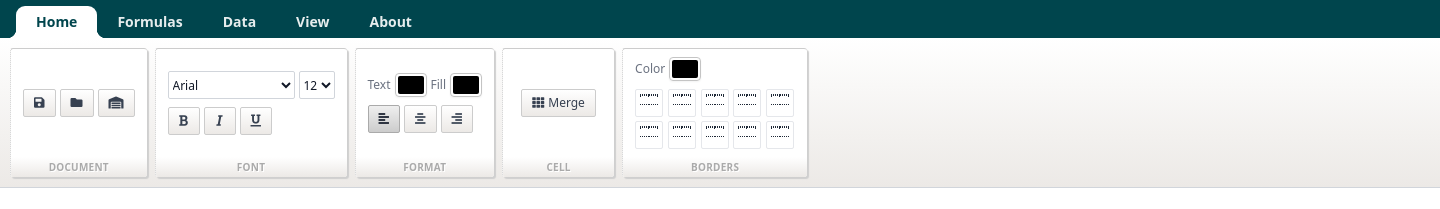
Scenario: RibbonMenu › switches tabs and renders the migrated tab content
Press the mouse on the tab "Formulas": (150, 22) [97,6,203,38]
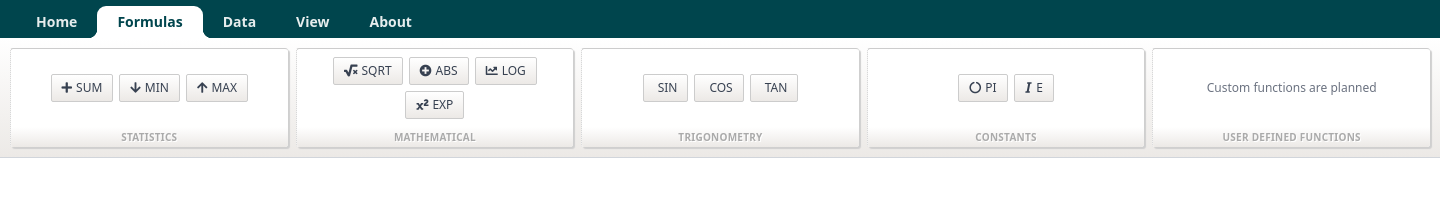
Expected: the text "Mathematical" is shown, [297,127,573,147]
Expected: the text "User Defined Functions" is shown, [1153,127,1430,147]
Expected: the button titled "Insert SUM" is shown, [51,74,113,102]
Press the mouse on the tab "Data": (240, 22) [203,6,276,38]
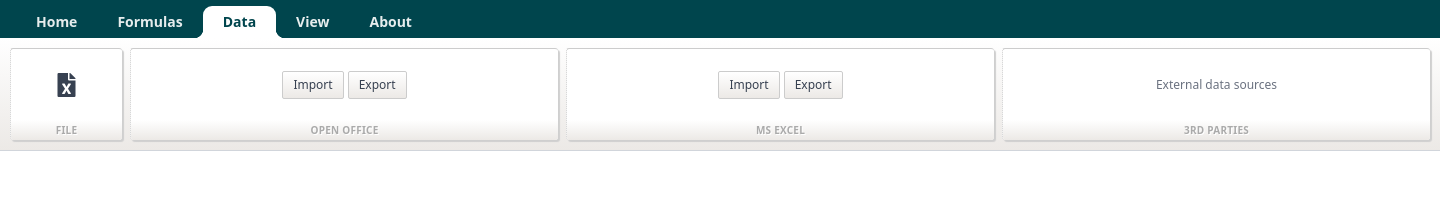
Expected: the text "Open Office" is shown, [131,120,558,140]
Expected: the text "MS Excel" is shown, [567,120,994,140]
Press the mouse on the tab "View": (313, 22) [276,6,350,38]
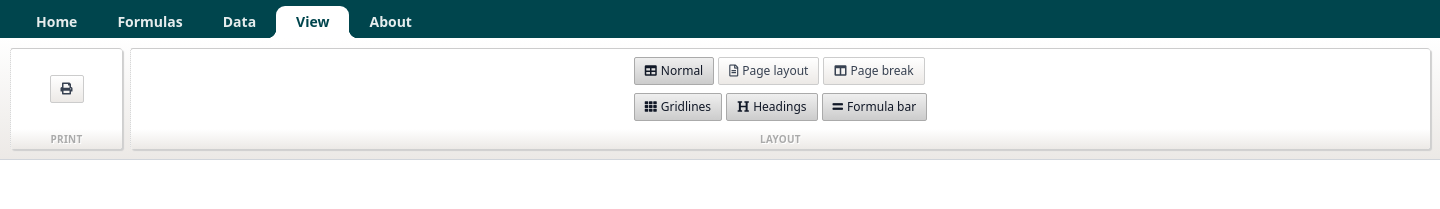
Expected: the text "Print" is shown, [11,129,122,149]
Expected: the text "Layout" is shown, [131,129,1430,149]
Expected: the button "Normal" is shown, [634,57,714,85]
Press the mouse on the tab "About": (391, 22) [350,6,432,38]
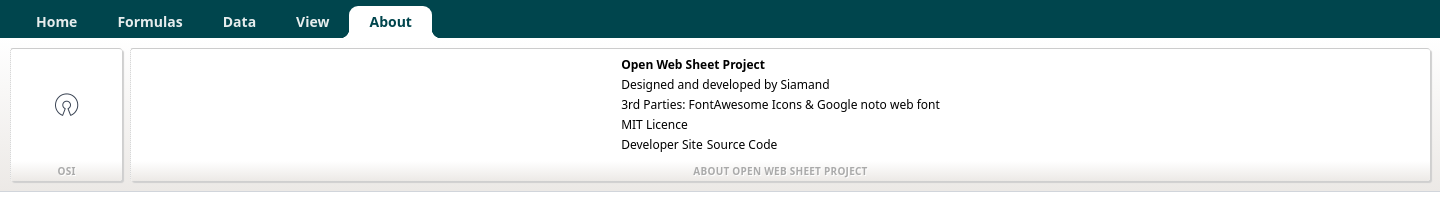
Expected: the text "Open Web Sheet Project" is shown, [621,56,765,73]
Expected: the link "Source Code" is shown, [707,137,777,153]
